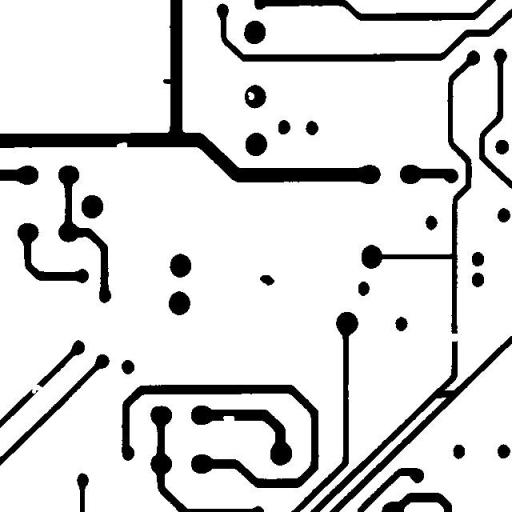copper: (252, 267, 282, 293)
mousebite: (215, 408, 242, 430), (109, 134, 134, 156)
open: (23, 377, 50, 401), (440, 326, 466, 348)
pin-hole: (240, 84, 262, 107)
short: (370, 246, 462, 266), (428, 382, 463, 406)
spur: (155, 71, 183, 91)
